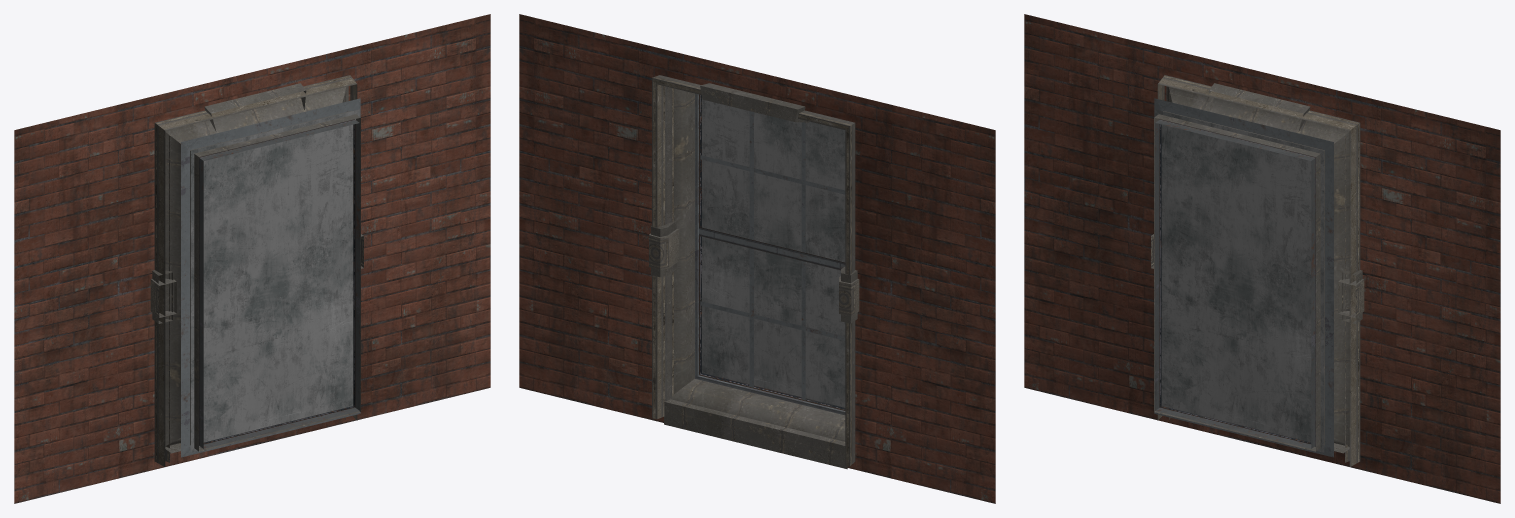
The model's file is ARC0910025.fbx.
3 renders of one model, left to right at view 1: azimuth 30°, elevation 25°; view 2: azimuth 150°, elevation 25°; view 3: azimuth 330°, elevation 25°, orthographic.
Parts seen in each view (by area): view 1: smARC0910025; view 2: smARC0910025; view 3: smARC0910025.
Part boxes in pixels (box(x1,y1,x2,y2)): smARC0910025: box(14, 14, 490, 503); smARC0910025: box(519, 14, 995, 503); smARC0910025: box(1024, 14, 1500, 503).
Size of the model in its own units: 400 by 300 by 55.23.
Materials: 1 (1 with a texture image).
